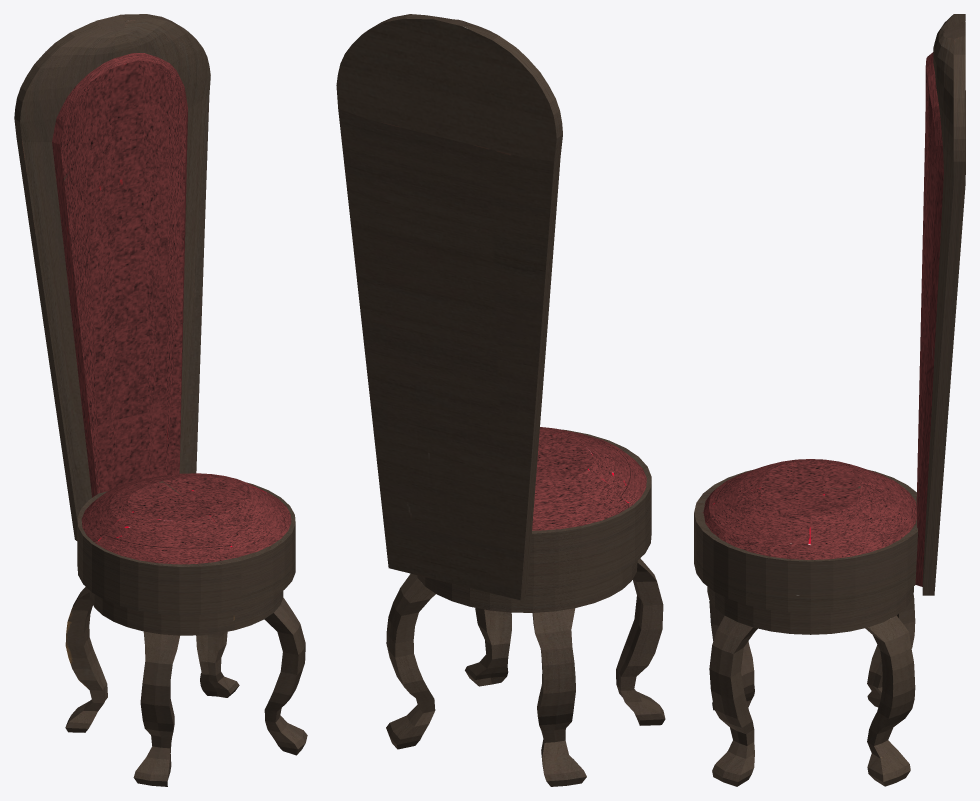
The model's file is Chair.fbx.
3 views of the same model, side by side, from view 1: azimuth 30°, elevation 25°; view 2: azimuth 150°, elevation 25°; view 3: azimuth 270°, elevation 25° (orthographic). The views are drawn at different scales.
Parts seen in each view (by area): view 1: Plane, Cylinder; view 2: Plane, Cylinder; view 3: Cylinder, Plane.
Part boxes in pixels (left/top/right/bottom): Plane: left=14, top=14, right=210, bottom=540; Cylinder: left=65, top=473, right=307, bottom=786; Plane: left=336, top=14, right=562, bottom=600; Cylinder: left=386, top=427, right=665, bottom=786; Cylinder: left=694, top=459, right=917, bottom=786; Plane: left=915, top=14, right=965, bottom=595.
Size of the model in its own units: 39.74 by 131 by 45.2.
2 materials, 2 textured.
